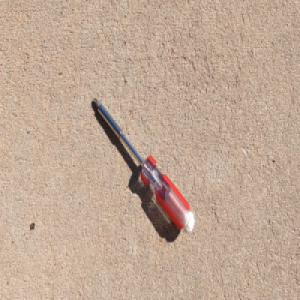Screwdriver: (91, 94, 195, 237)
